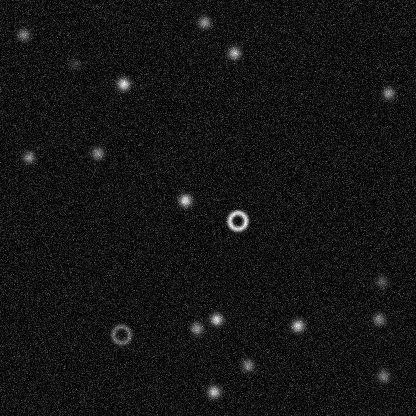Ring: (109, 322, 133, 346), (225, 208, 249, 232)
Spot: (373, 273, 389, 289), (20, 149, 36, 165), (289, 317, 305, 333), (208, 311, 224, 327), (15, 26, 31, 42), (89, 145, 105, 161), (380, 84, 396, 100), (188, 320, 204, 336), (66, 55, 82, 71), (375, 367, 391, 383), (177, 192, 193, 208), (115, 75, 131, 91), (239, 357, 255, 373), (370, 311, 386, 327), (226, 44, 242, 60), (196, 14, 212, 30), (205, 383, 221, 399)
